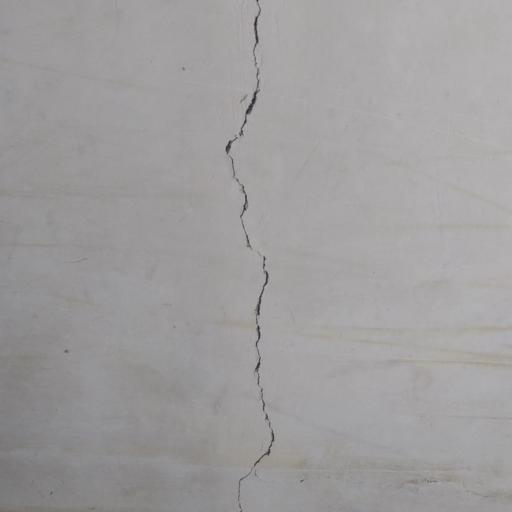minor_crack: (216, 0, 289, 512)
